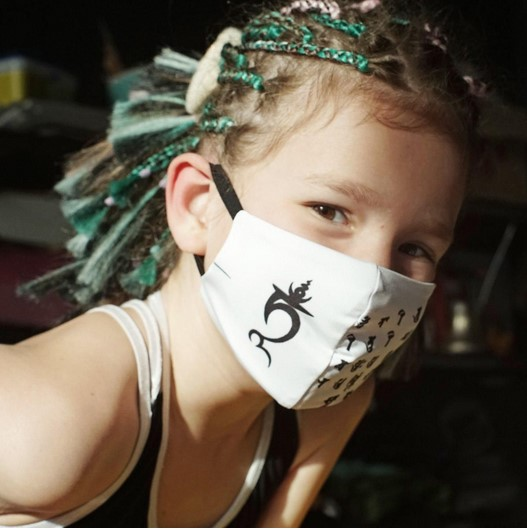face_with_mask: (162, 4, 483, 428)
